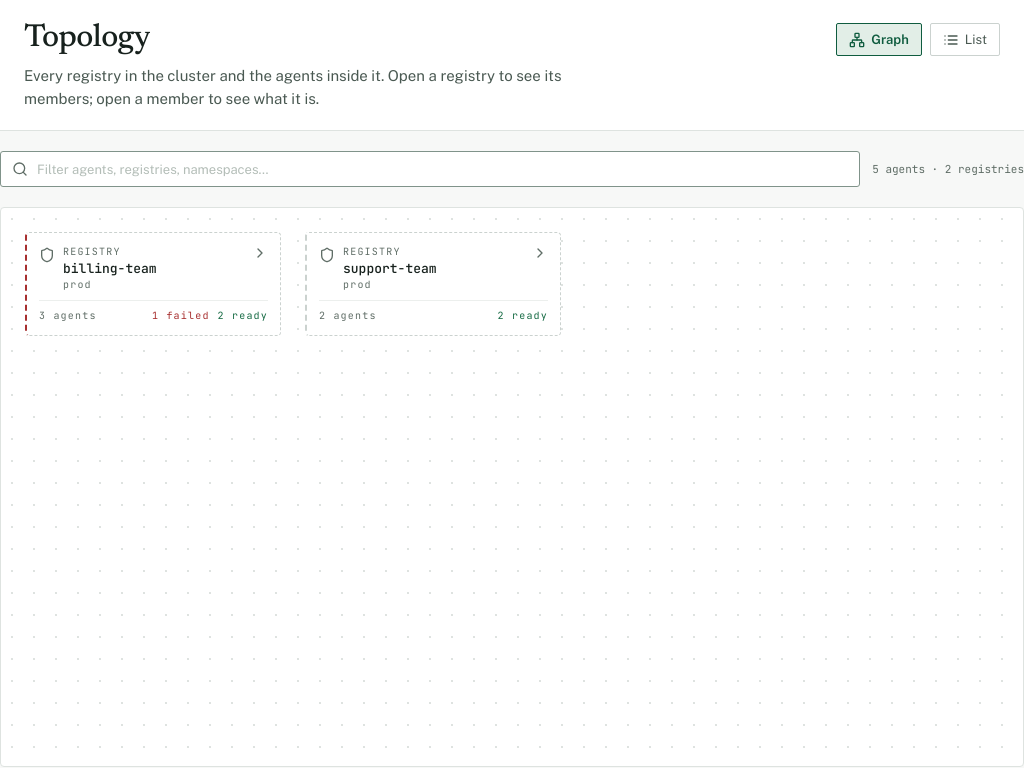
TopologyPage — expand group → agent nodes › clicking agent node opens the detail drawer
This screenshot has width=1024, height=768.
What coordinates should you click on to do the following:
click the button "registry billing-team prod 3 agents 1 failed 2 ready"
I would click on:
 (153, 284)
Its box is [25,232,281,336].
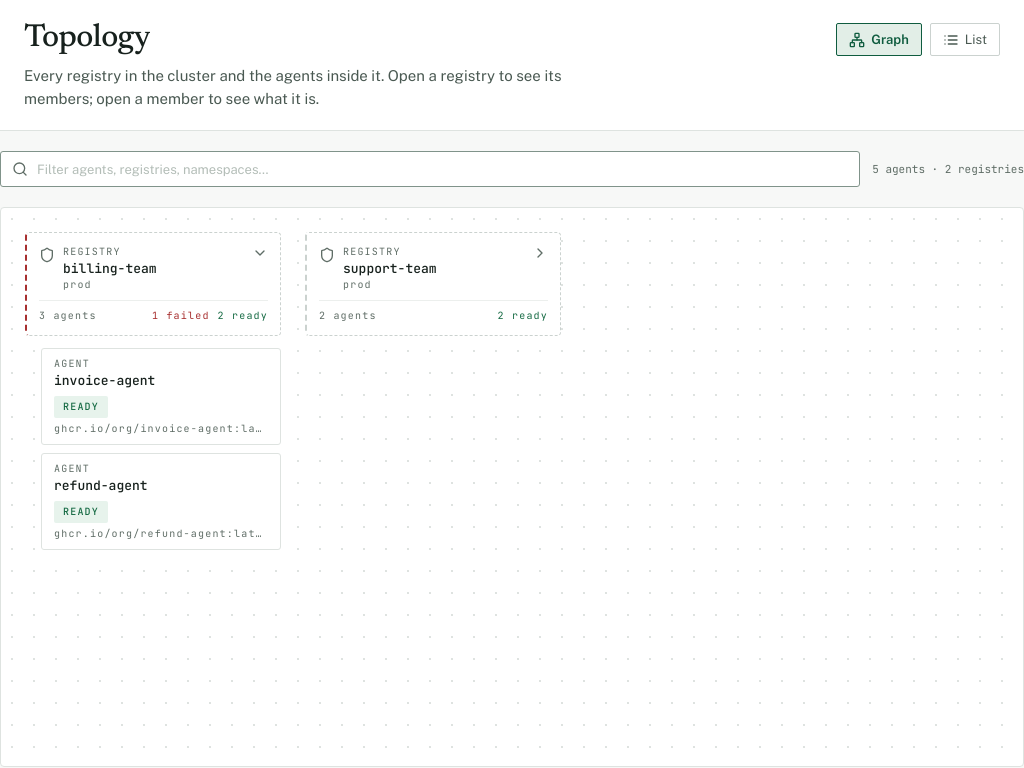
What coordinates should you click on to do the following:
click the button "Agent invoice-agent Ready ghcr.io/org/invoice-agent:latest"
I would click on:
 (161, 396)
Its box is [41,348,281,445].
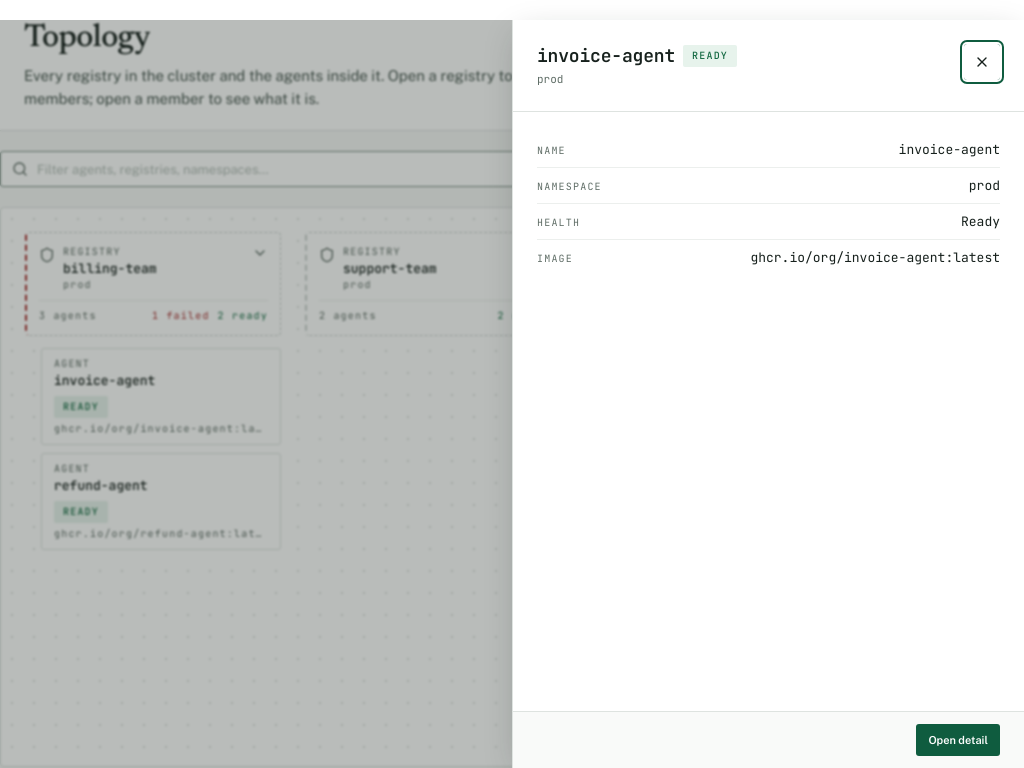
expect the text with test id "drawer-agent-name" reads "invoice-agent": met, box [899,141,1000,158]
expect the text with test id "drawer-agent-ns" reads "prod": met, box [969,177,1000,194]
